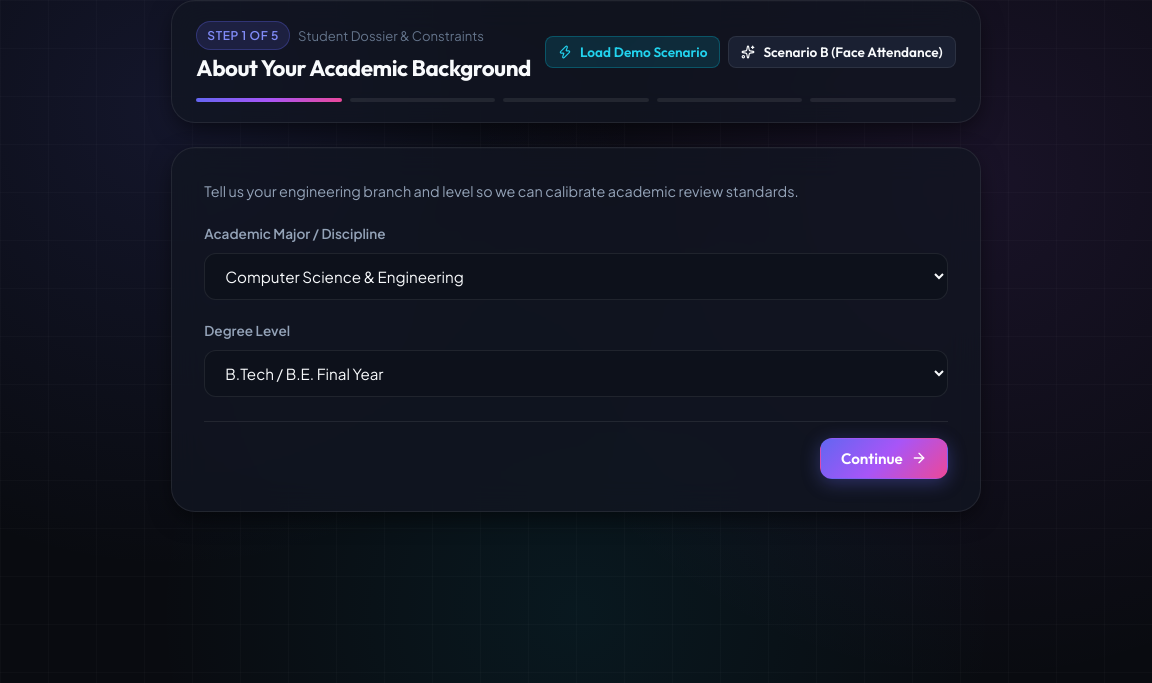
Scenario: Milestone 2 & 3 - Frontend Test Suite › navigates through onboarding steps correctly
Expected: the heading "About Your Academic Background" is shown, [196,54,531,82]
# Click Continue
Click the button "Continue". click: {"x": 884, "y": 458}
box: [820,438,948,479]
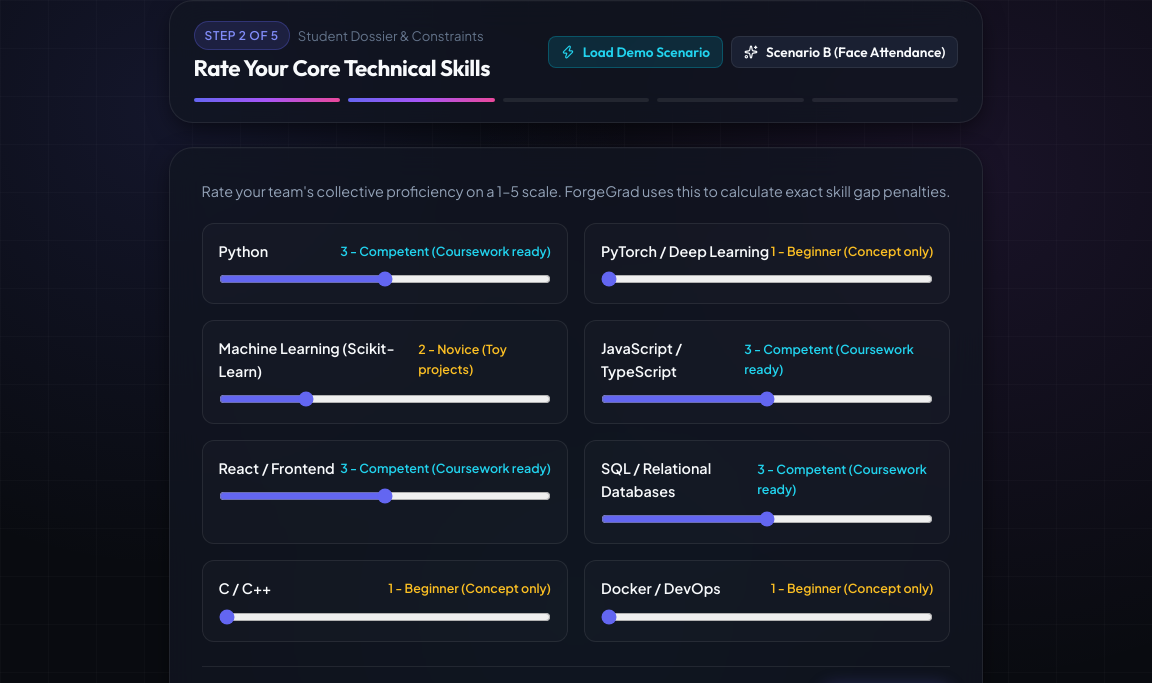
Expected: the heading "Rate Your Core Technical Skills" is shown, [194,54,490,82]
